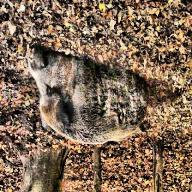boar: (26, 50, 166, 153)
